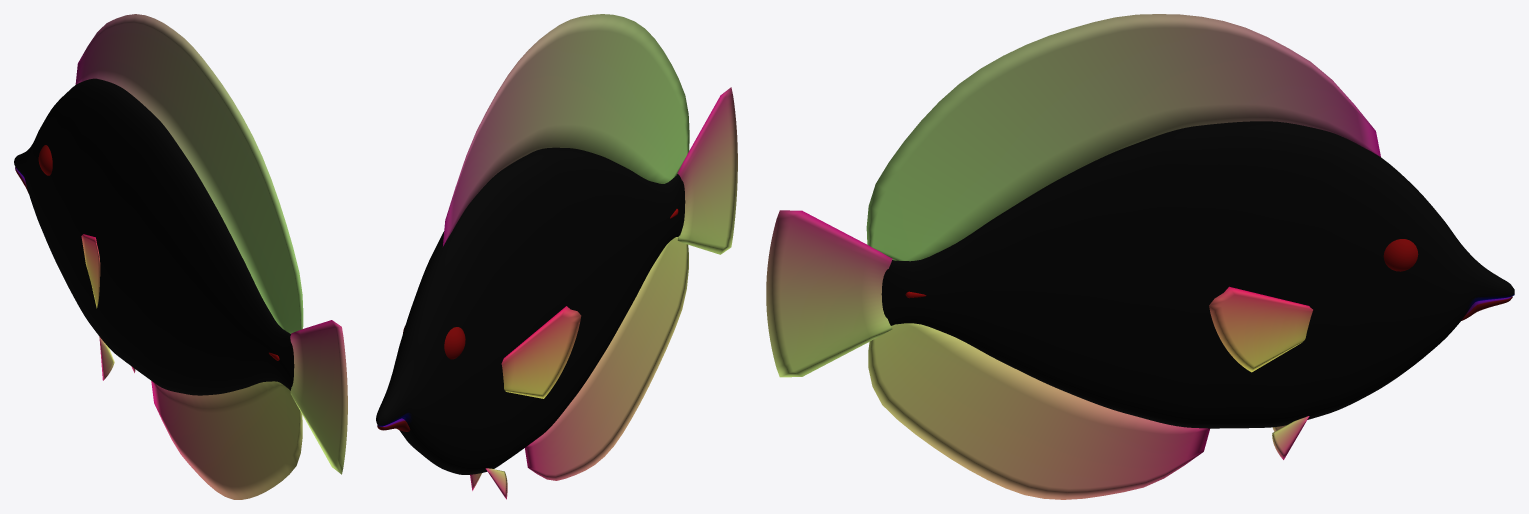
File: surgeonfish_yellow_tang.glb
3 views of the same model, side by side, from view 1: azimuth 30°, elevation 25°; view 2: azimuth 150°, elevation 25°; view 3: azimuth 270°, elevation 25° (orthographic). The views are drawn at different scales.
Visible parts, largest first — view 1: surgeonfish_yellow_tang; view 2: surgeonfish_yellow_tang; view 3: surgeonfish_yellow_tang.
Part boxes in pixels (<box>): surgeonfish_yellow_tang: <box>14,14,347,499</box>; surgeonfish_yellow_tang: <box>376,14,737,499</box>; surgeonfish_yellow_tang: <box>766,14,1514,499</box>.
Bounding box in the file's own units: 0.0444 × 0.1768 × 0.2467.
